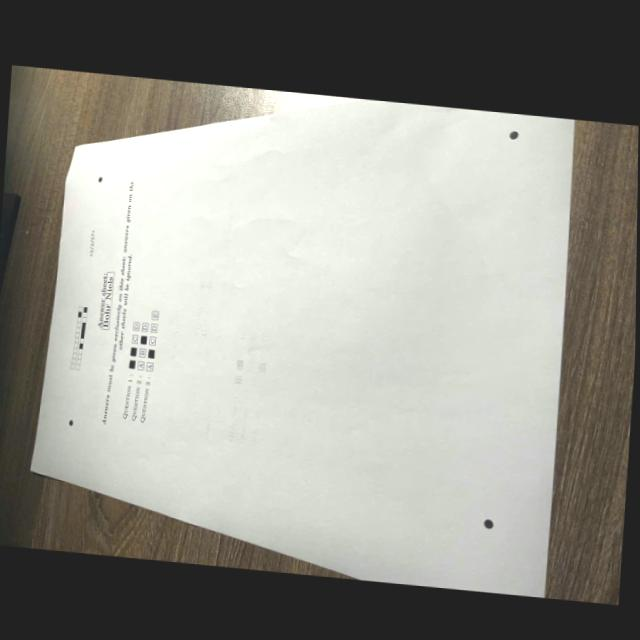Markers: (482, 518, 494, 529), (509, 130, 518, 140), (69, 419, 73, 425), (99, 176, 103, 182)
